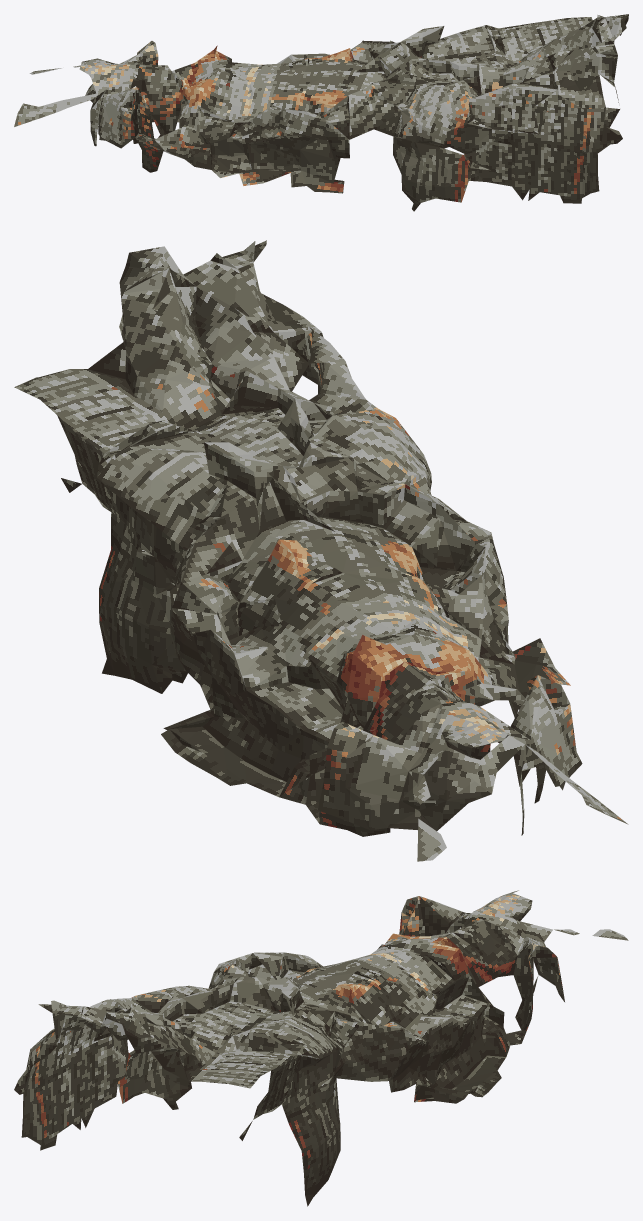
Rendered from yoroi.glb.
3 views of the same model, one above another, from view 1: azimuth 30°, elevation 25°; view 2: azimuth 150°, elevation 25°; view 3: azimuth 270°, elevation 25° (orthographic). The views are drawn at different scales.
Visible parts, largest first — view 1: model_m; view 2: model_m; view 3: model_m.
Boxes of the visible parts, x1,y1,x2,y2 form: model_m: (14, 14, 628, 211); model_m: (14, 240, 628, 861); model_m: (14, 890, 628, 1206).
Bounding box in the file's own units: 27.47 × 10.21 × 25.7.
1 material, 1 textured.
